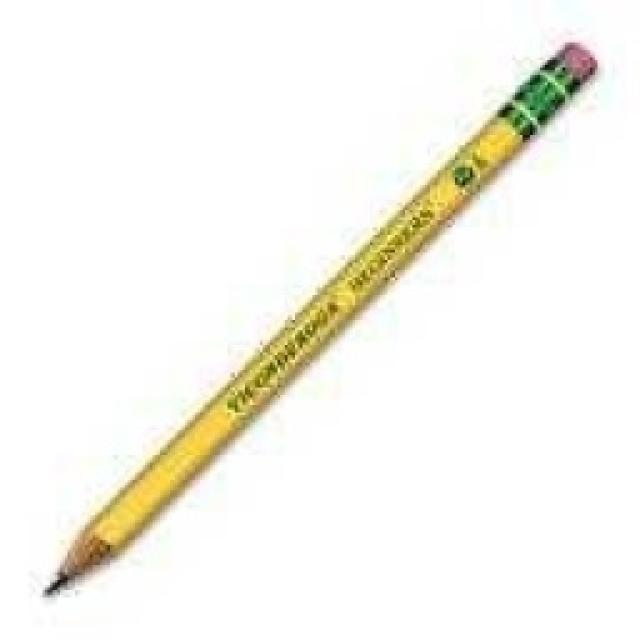pencil: (38, 30, 602, 600)
